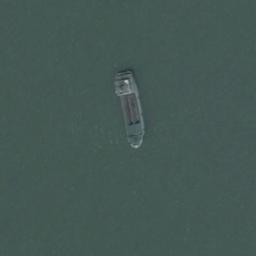boat: (112, 69, 146, 148)
